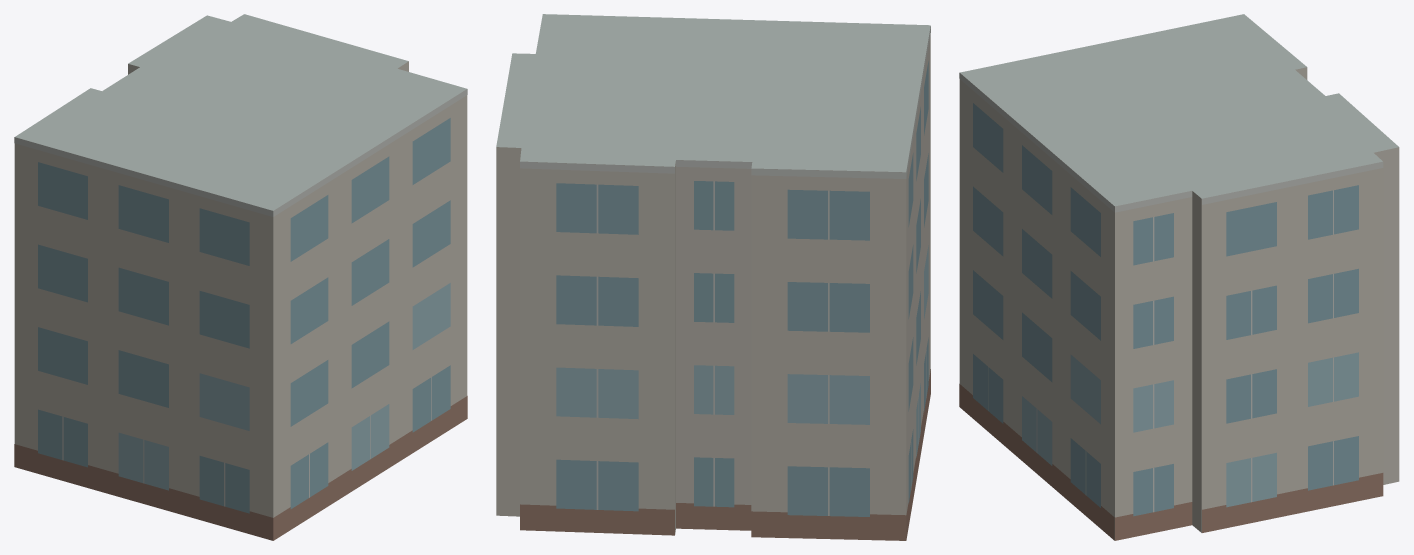
The model's file is survey-upis-32740886.glb.
3 renders of one model, left to right at view 1: azimuth 30°, elevation 25°; view 2: azimuth 150°, elevation 25°; view 3: azimuth 270°, elevation 25°, orthographic. The views are drawn at different scales.
Visible parts, largest first — view 1: survey-upis-32740886.tmp; view 2: survey-upis-32740886.tmp; view 3: survey-upis-32740886.tmp.
Boxes of the visible parts, <box> form: survey-upis-32740886.tmp: <box>14,14,467,540</box>; survey-upis-32740886.tmp: <box>496,14,930,540</box>; survey-upis-32740886.tmp: <box>959,14,1399,540</box>.
Size of the model in its own units: 16.08 by 13.02 by 15.53.
